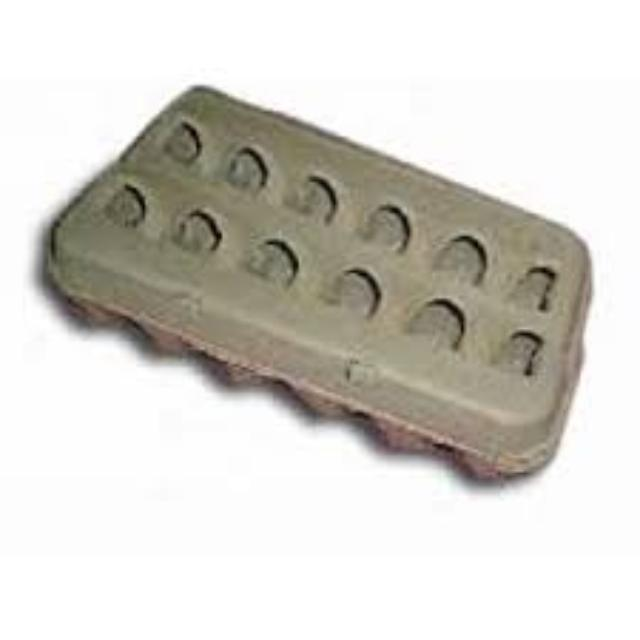cardboard paper: (43, 82, 586, 472)
